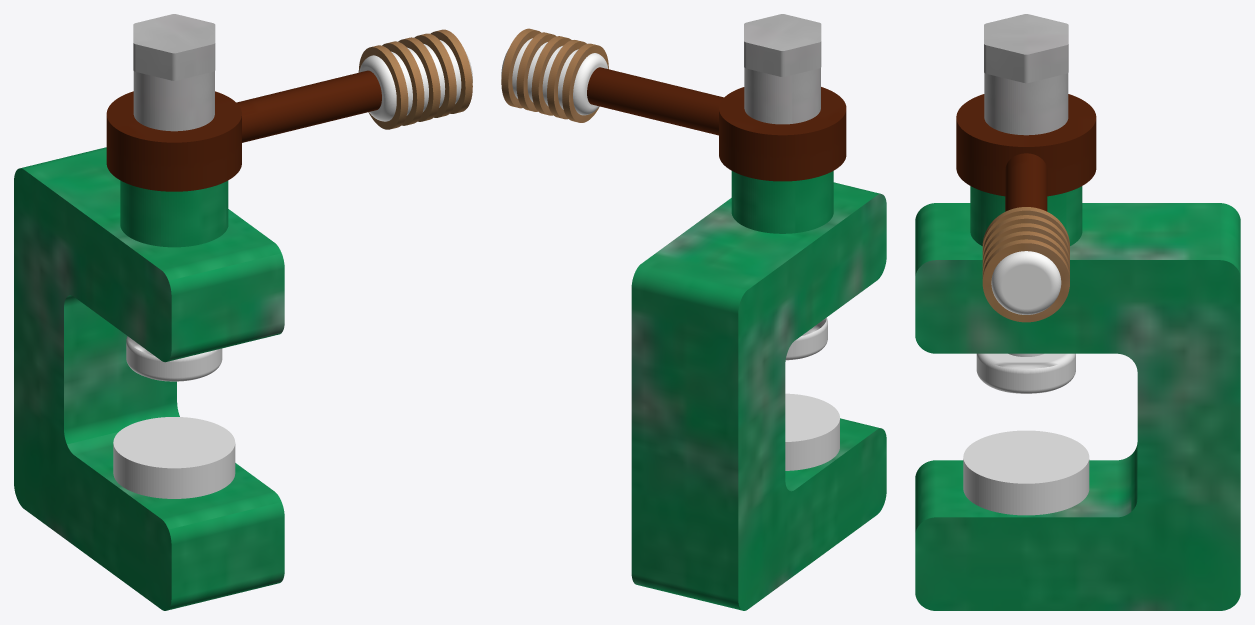
The model's file is Handtools_Clamp__0005.glb.
The picture shows the model from 3 angles, left to right: view 1: azimuth 30°, elevation 25°; view 2: azimuth 150°, elevation 25°; view 3: azimuth 270°, elevation 25°; orthographic projection. The views are drawn at different scales.
Visible parts, largest first — view 1: frame::frame_body, lever::lever_hub, frame::anvil_pad, lever::lever_arm, screw::screw_collar, screw::screw_core, lever::lever_grip, pad::swivel_pad, lever::grip_ridge_0, lever::grip_ridge_3, lever::grip_ridge_1, lever::grip_ridge_2 (+1 smaller); view 2: frame::frame_body, lever::lever_hub, lever::lever_arm, screw::screw_collar, screw::screw_core, frame::anvil_pad, lever::lever_grip, lever::grip_ridge_0, lever::grip_ridge_4, lever::grip_ridge_1, lever::grip_ridge_3, lever::grip_ridge_2 (+1 smaller); view 3: frame::frame_body, frame::anvil_pad, lever::lever_hub, screw::screw_collar, screw::screw_core, pad::swivel_pad, lever::lever_grip, lever::grip_ridge_4, lever::lever_arm, lever::grip_ridge_2, lever::grip_ridge_3, lever::grip_ridge_1 (+1 smaller).
Part boxes in pixels (x1=…): frame::frame_body: x1=14, y1=147, x2=284, y2=610; lever::lever_hub: x1=106, y1=91, x2=241, y2=191; frame::anvil_pad: x1=113, y1=417, x2=235, y2=498; lever::lever_arm: x1=236, y1=70, x2=381, y2=142; screw::screw_collar: x1=133, y1=14, x2=215, y2=80; screw::screw_core: x1=133, y1=71, x2=214, y2=131; lever::lever_grip: x1=359, y1=40, x2=472, y2=121; pad::swivel_pad: x1=126, y1=336, x2=222, y2=381; lever::grip_ridge_0: x1=358, y1=45, x2=408, y2=129; lever::grip_ridge_3: x1=414, y1=33, x2=456, y2=117; lever::grip_ridge_1: x1=382, y1=41, x2=424, y2=125; lever::grip_ridge_2: x1=398, y1=37, x2=440, y2=121; frame::frame_body: x1=631, y1=171, x2=886, y2=610; lever::lever_hub: x1=719, y1=87, x2=846, y2=181; lever::lever_arm: x1=587, y1=67, x2=723, y2=135; screw::screw_collar: x1=744, y1=14, x2=821, y2=76; screw::screw_core: x1=744, y1=68, x2=820, y2=124; frame::anvil_pad: x1=785, y1=393, x2=839, y2=470; lever::lever_grip: x1=501, y1=38, x2=608, y2=115; lever::grip_ridge_0: x1=562, y1=43, x2=608, y2=122; lever::grip_ridge_4: x1=501, y1=28, x2=541, y2=108; lever::grip_ridge_1: x1=547, y1=40, x2=586, y2=119; lever::grip_ridge_3: x1=516, y1=32, x2=556, y2=111; lever::grip_ridge_2: x1=531, y1=36, x2=571, y2=115; frame::frame_body: x1=915, y1=186, x2=1240, y2=610; frame::anvil_pad: x1=963, y1=430, x2=1089, y2=515; lever::lever_hub: x1=956, y1=94, x2=1096, y2=196; screw::screw_collar: x1=984, y1=14, x2=1068, y2=83; screw::screw_core: x1=984, y1=73, x2=1068, y2=135; pad::swivel_pad: x1=976, y1=353, x2=1075, y2=393; lever::lever_grip: x1=991, y1=251, x2=1061, y2=314; lever::grip_ridge_4: x1=982, y1=239, x2=1069, y2=322; lever::lever_arm: x1=1005, y1=153, x2=1047, y2=211; lever::grip_ridge_2: x1=982, y1=223, x2=1069, y2=266; lever::grip_ridge_3: x1=982, y1=231, x2=1069, y2=274; lever::grip_ridge_1: x1=982, y1=215, x2=1069, y2=258.
Bounding box in the file's own units: 0.1174 × 0.1729 × 0.0931.
7 materials, 5 textured.
